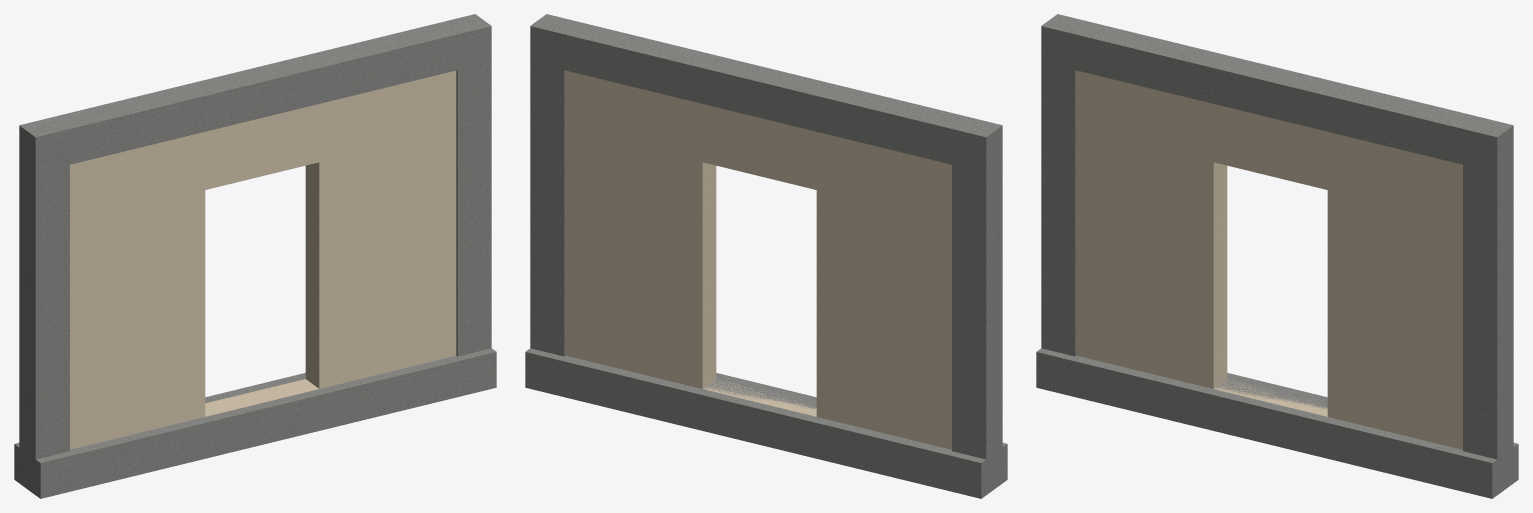
Rendered from estate_wall_door_4p.glb.
The picture shows the model from 3 angles, left to right: view 1: azimuth 30°, elevation 25°; view 2: azimuth 150°, elevation 25°; view 3: azimuth 330°, elevation 25°; orthographic projection.
Parts seen in each view (by area): view 1: Cube.004, Cube.003, Cube, Cube.001, Cube.002; view 2: Cube.004, Cube.003, Cube, Cube.001, Cube.002; view 3: Cube.004, Cube.003, Cube, Cube.002, Cube.001.
Boxes of the visible parts, x1,y1,x2,y2 form: Cube.004: (70, 70, 456, 449); Cube.003: (19, 14, 491, 172); Cube: (14, 348, 496, 498); Cube.001: (19, 161, 69, 459); Cube.002: (456, 62, 491, 356); Cube.004: (565, 70, 951, 449); Cube.003: (530, 14, 1002, 172); Cube: (525, 348, 1007, 498); Cube.001: (952, 161, 1002, 459); Cube.002: (530, 62, 565, 356); Cube.004: (1076, 70, 1462, 449); Cube.003: (1041, 14, 1513, 172); Cube: (1036, 348, 1518, 498); Cube.002: (1463, 161, 1513, 459); Cube.001: (1041, 62, 1076, 356).
Bounding box in the file's own units: 4 × 3 × 0.4.
Materials: 2 (2 with a texture image).
